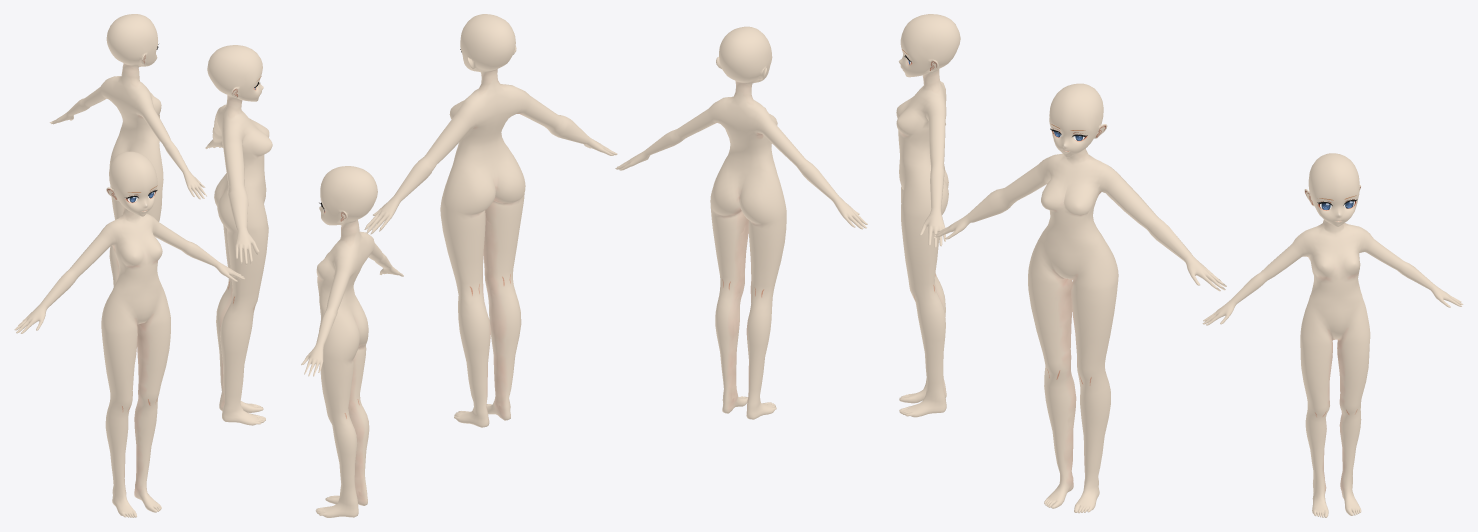
File: Genshin-Style-Anime-Female-Base-Mesh-For.glb
3 renders of one model, left to right at view 1: azimuth 30°, elevation 25°; view 2: azimuth 150°, elevation 25°; view 3: azimuth 270°, elevation 25°, orthographic. The views are drawn at different scales.
Parts seen in each view (by area): view 1: Character_Preview_1_1, Character_Preview_2_2, Character_Preview_3_3; view 2: Character_Preview_2_2, Character_Preview_1_1, Character_Preview_3_3; view 3: Character_Preview_2_2, Character_Preview_3_3, Character_Preview_1_1.
Boxes of the visible parts, box(x1,y1,x2,y2) form: Character_Preview_1_1: box(14, 151, 244, 517); Character_Preview_2_2: box(205, 45, 272, 425); Character_Preview_3_3: box(49, 14, 206, 286); Character_Preview_2_2: box(364, 14, 617, 427); Character_Preview_1_1: box(615, 26, 867, 419); Character_Preview_3_3: box(301, 166, 403, 517); Character_Preview_2_2: box(934, 83, 1226, 513); Character_Preview_3_3: box(1202, 153, 1463, 517); Character_Preview_1_1: box(896, 14, 960, 417).
Bounding box in the file's own units: 1.92 × 2.04 × 2.54.
2 materials, 2 textured.
